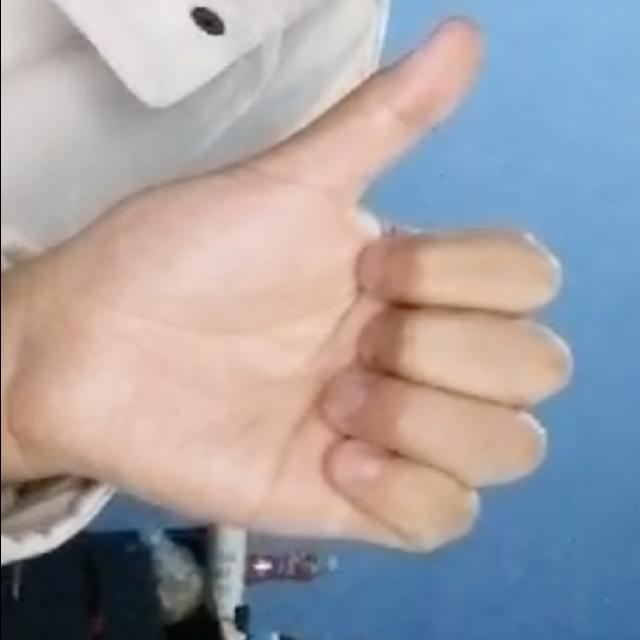A: (16, 8, 584, 574)
